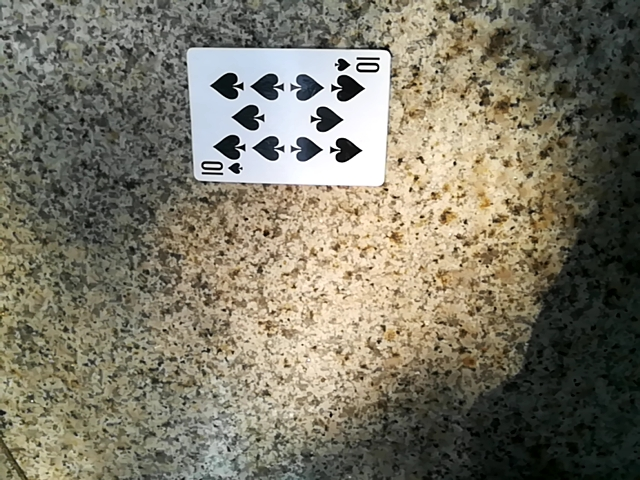ht 10: (175, 40, 379, 181)
